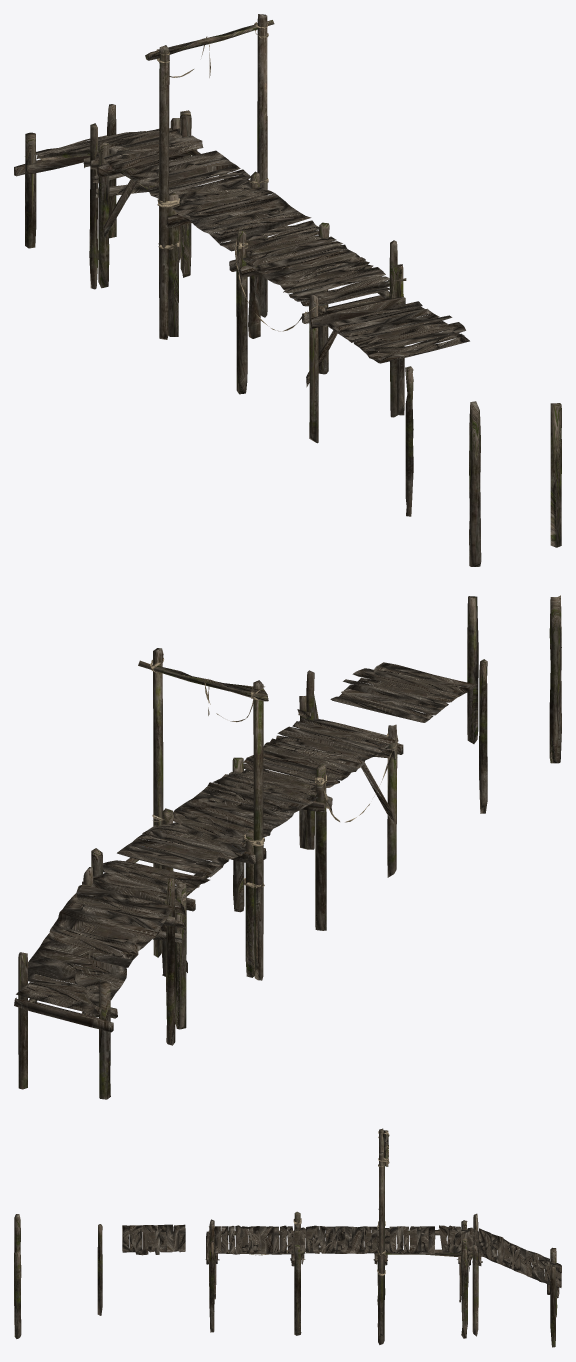
The model's file is modular_wooden_pier_lod1.glb.
The picture shows the model from 3 angles, top to bottom: view 1: azimuth 30°, elevation 25°; view 2: azimuth 150°, elevation 25°; view 3: azimuth 270°, elevation 25°; orthographic projection. The views are drawn at different scales.
Parts seen in each view (by area): view 1: modular_wooden_pier_section_01, modular_wooden_pier_section_03, modular_wooden_pier_section_02, modular_wooden_pier_section_05, modular_wooden_pier_planks, modular_wooden_pier_section_04, modular_wooden_pier_poles; view 2: modular_wooden_pier_section_04, modular_wooden_pier_section_01, modular_wooden_pier_section_03, modular_wooden_pier_section_02, modular_wooden_pier_section_05, modular_wooden_pier_poles, modular_wooden_pier_planks; view 3: modular_wooden_pier_section_01, modular_wooden_pier_section_04, modular_wooden_pier_section_03, modular_wooden_pier_section_02, modular_wooden_pier_planks, modular_wooden_pier_section_05, modular_wooden_pier_poles.
Boxes of the visible parts, left/top/right/bottom form: modular_wooden_pier_section_01: left=229, top=222, right=406, bottom=443; modular_wooden_pier_section_03: left=90, top=110, right=250, bottom=288; modular_wooden_pier_section_02: left=166, top=171, right=318, bottom=338; modular_wooden_pier_section_05: left=145, top=14, right=274, bottom=339; modular_wooden_pier_planks: left=326, top=301, right=469, bottom=363; modular_wooden_pier_section_04: left=14, top=104, right=180, bottom=289; modular_wooden_pier_poles: left=405, top=366, right=561, bottom=566; modular_wooden_pier_section_04: left=14, top=867, right=175, bottom=1099; modular_wooden_pier_section_01: left=229, top=670, right=403, bottom=930; modular_wooden_pier_section_03: left=82, top=825, right=247, bottom=1029; modular_wooden_pier_section_02: left=153, top=774, right=317, bottom=977; modular_wooden_pier_section_05: left=138, top=648, right=268, bottom=980; modular_wooden_pier_poles: left=467, top=595, right=561, bottom=813; modular_wooden_pier_planks: left=330, top=662, right=476, bottom=722; modular_wooden_pier_section_01: left=205, top=1211, right=305, bottom=1335; modular_wooden_pier_section_04: left=472, top=1213, right=561, bottom=1347; modular_wooden_pier_section_03: left=377, top=1220, right=473, bottom=1338; modular_wooden_pier_section_02: left=293, top=1222, right=389, bottom=1344; modular_wooden_pier_planks: left=122, top=1224, right=185, bottom=1255; modular_wooden_pier_section_05: left=377, top=1128, right=389, bottom=1335; modular_wooden_pier_poles: left=14, top=1214, right=102, bottom=1338.
Bounding box in the file's own units: 3.07 × 7.51 × 19.02.
Materials: 2 (2 with a texture image).
